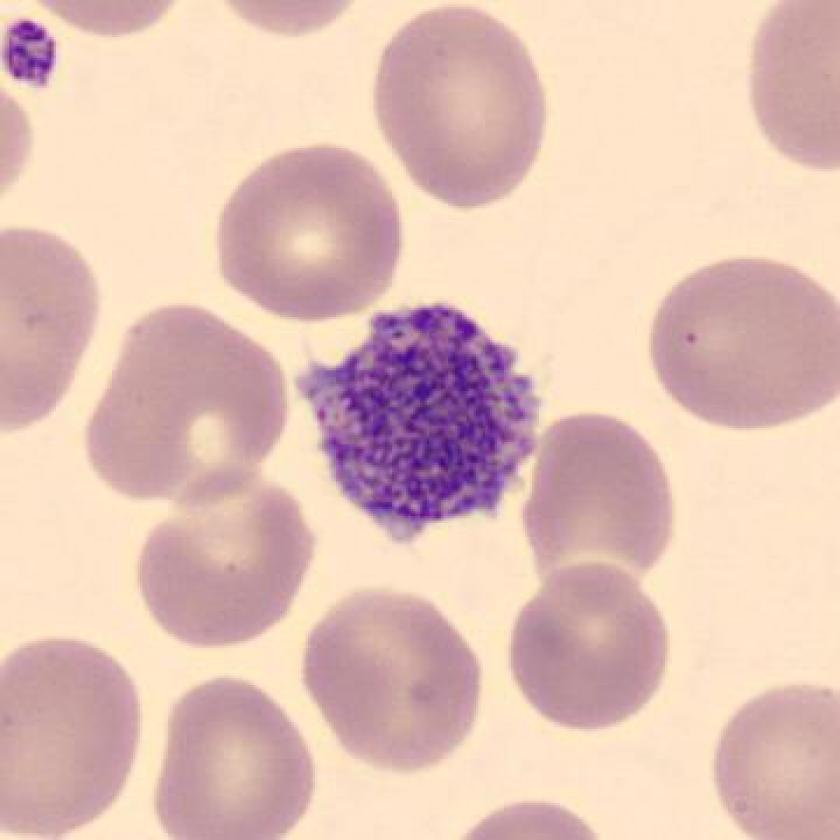platelets: (295, 297, 547, 552), (1, 12, 66, 100)
